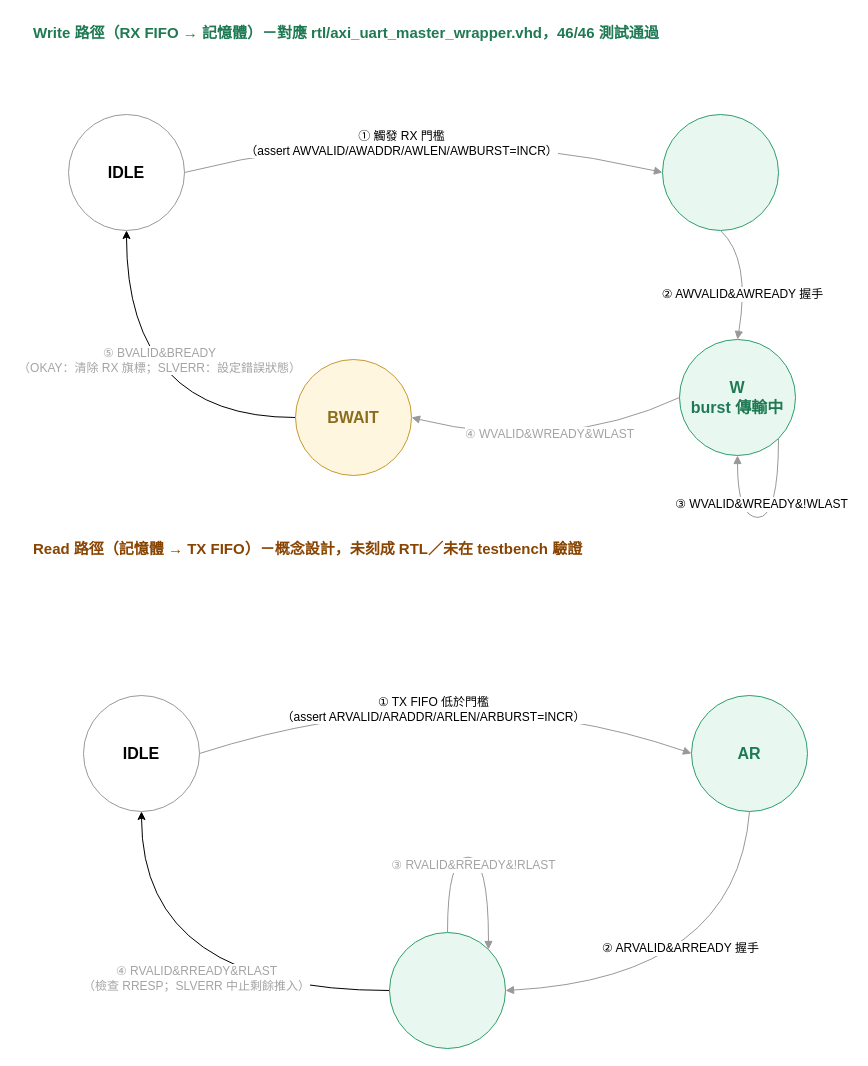
This 868x1066 diagram has some shape labels left out. Here are the shapes that lost their labels. From the top down, the box of each, then its label:
(662, 114, 778, 230): AW
(388, 932, 506, 1048): R 推入 TX FIFO
